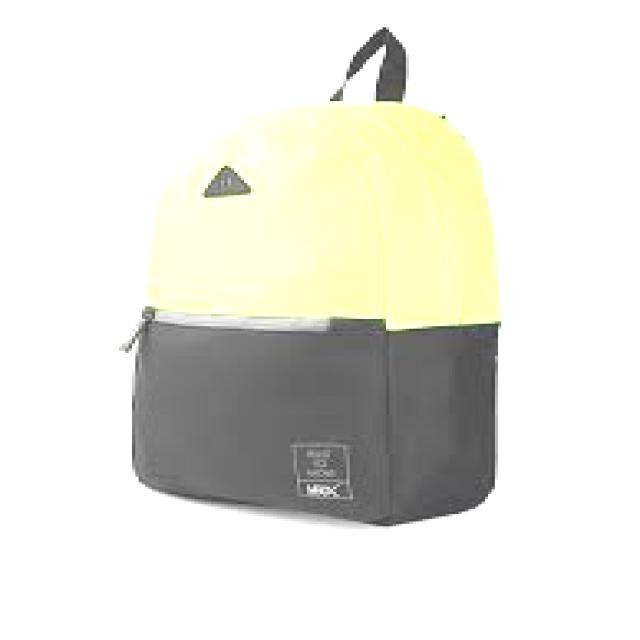backpack: (117, 26, 503, 528)
